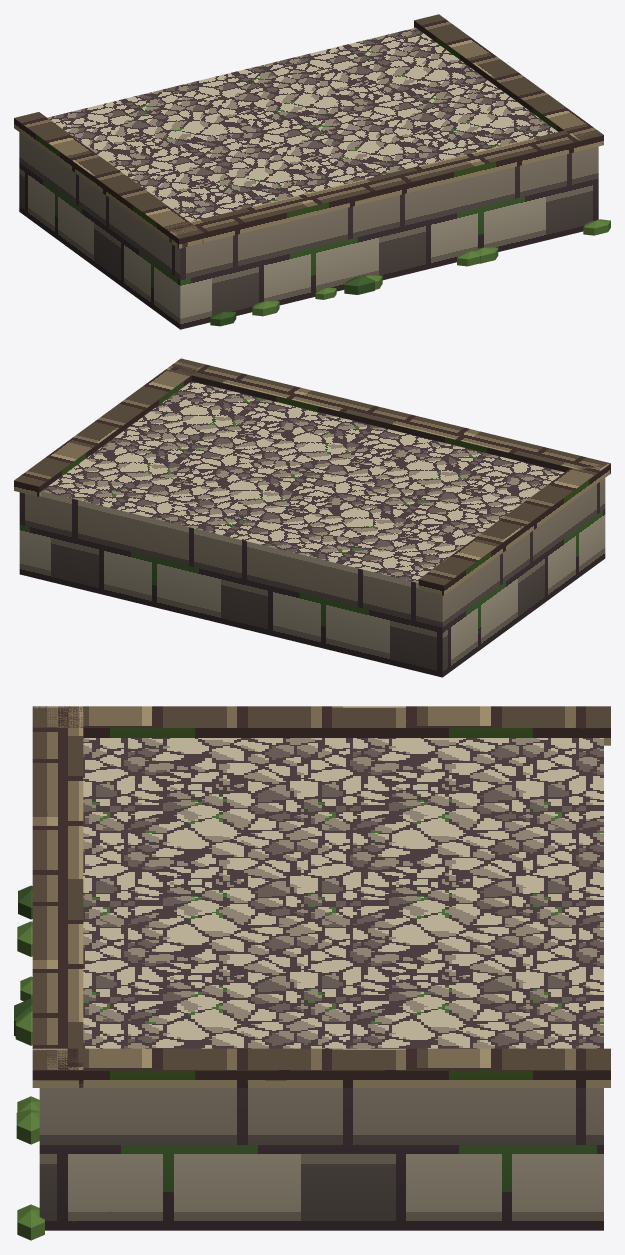
Rendered from terrace_6x4.glb.
The picture shows the model from 3 angles, top to bottom: view 1: azimuth 30°, elevation 25°; view 2: azimuth 150°, elevation 25°; view 3: azimuth 270°, elevation 25°; orthographic projection. The views are drawn at different scales.
Parts seen in each view (by area): view 1: terrace_6x4; view 2: terrace_6x4; view 3: terrace_6x4.
Part boxes in pixels (<box>): terrace_6x4: <box>14,14,610,329</box>; terrace_6x4: <box>14,358,610,677</box>; terrace_6x4: <box>14,706,610,1240</box>.
Size of the model in its own units: 6.19 by 1.36 by 4.23.
Materials: 3 (2 with a texture image).
